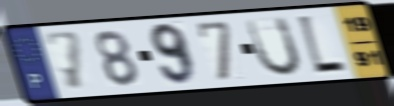7: (42, 28, 86, 93), (193, 19, 235, 83)
8: (94, 28, 141, 88)
9: (147, 21, 198, 88)
L: (295, 14, 350, 78)
U: (243, 15, 304, 79)
